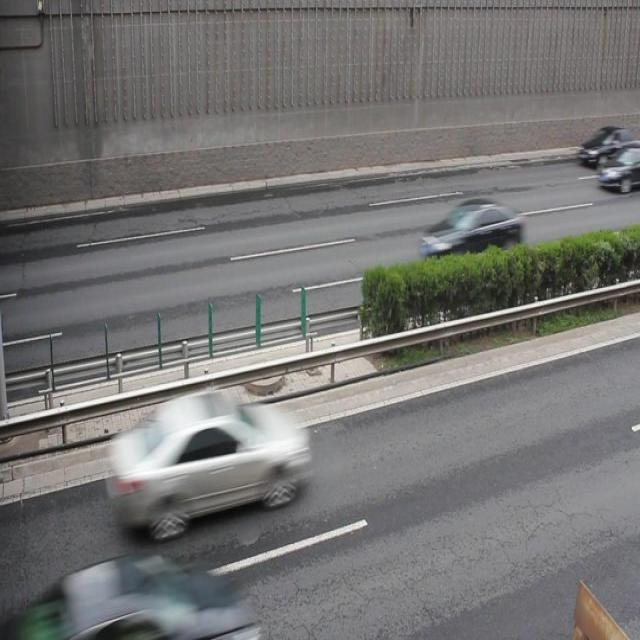car: (110, 389, 308, 537), (52, 551, 245, 640), (420, 196, 521, 272), (577, 125, 630, 167), (594, 146, 640, 192)
